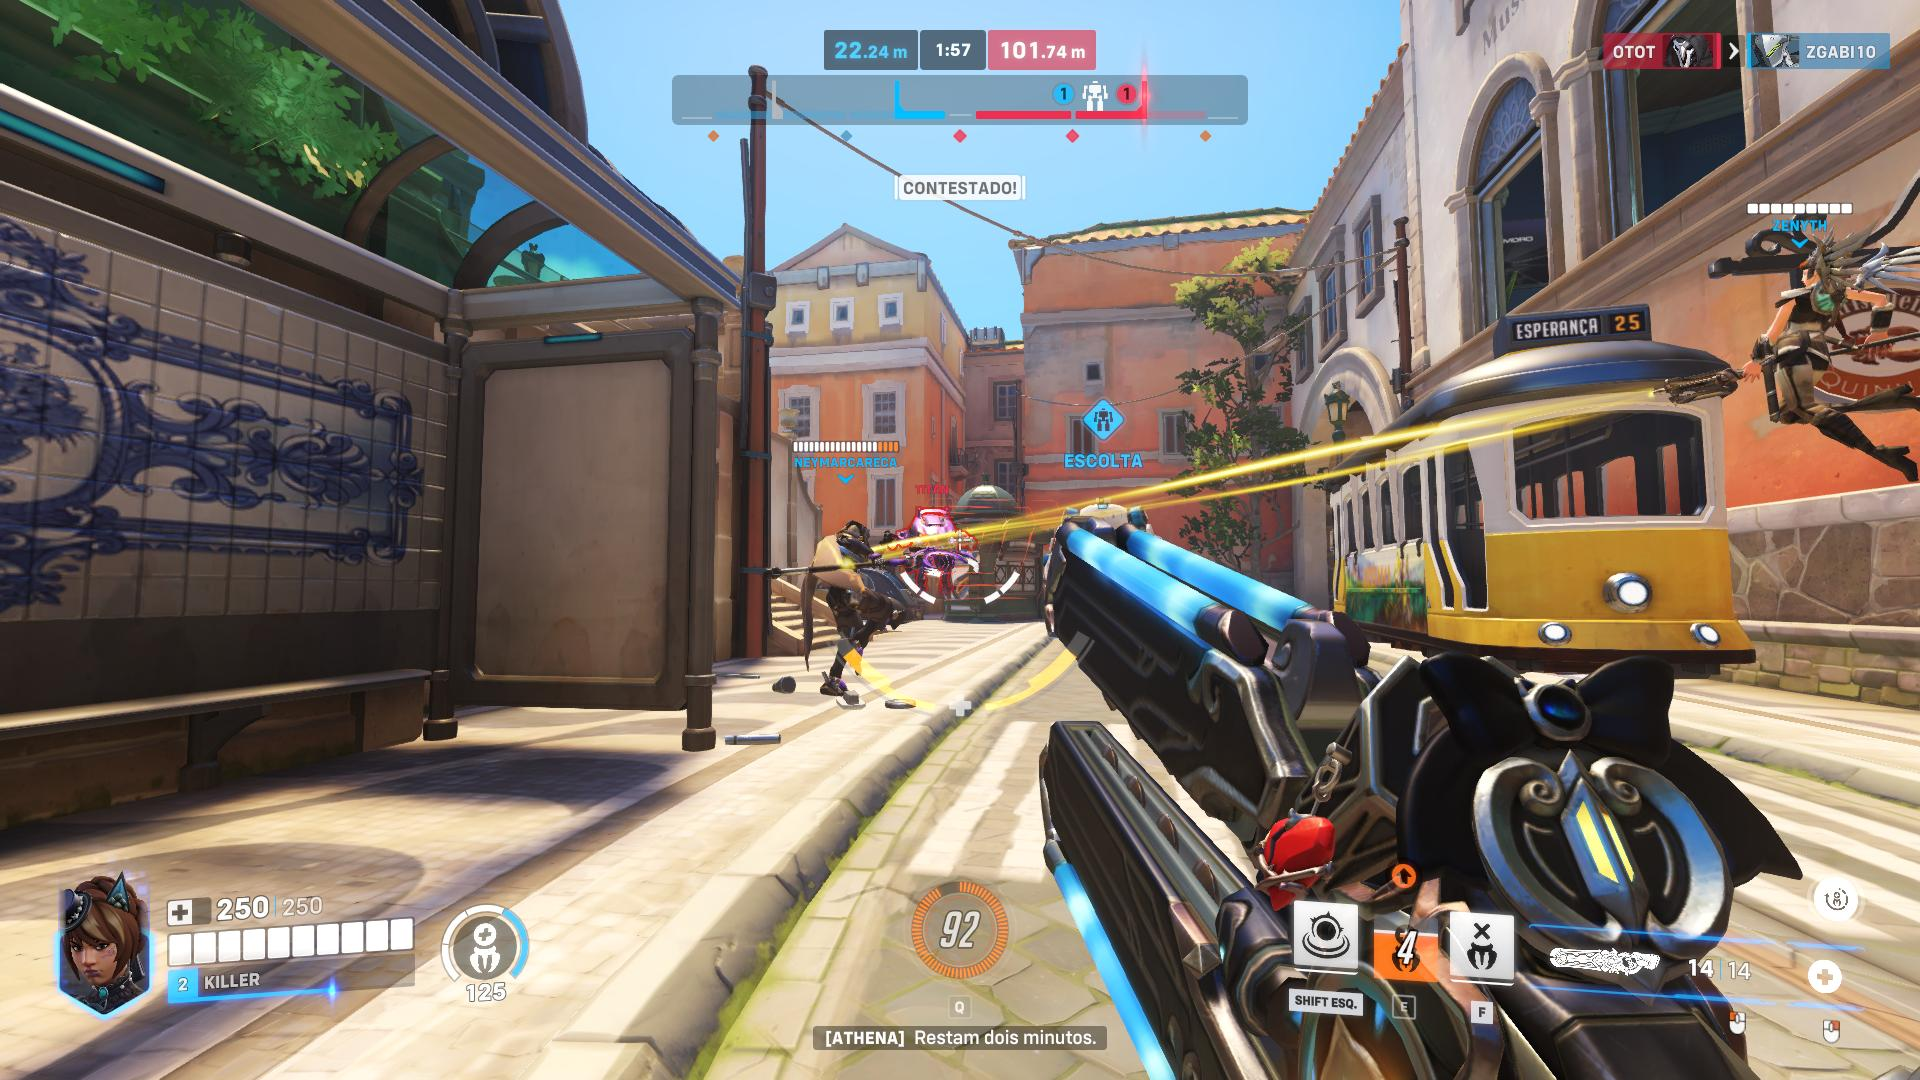enemy: (910, 505, 956, 596)
